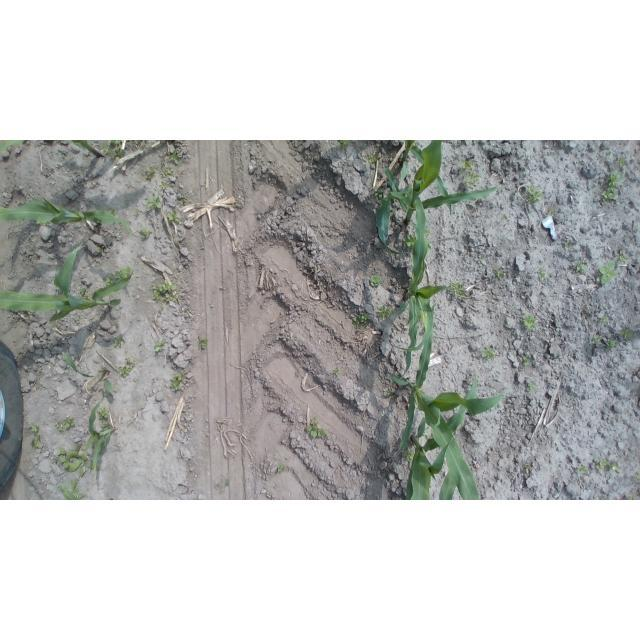Maize: (391, 304, 506, 501), (376, 140, 501, 257), (0, 243, 132, 323), (396, 191, 451, 382), (405, 376, 478, 500), (0, 195, 134, 237), (399, 140, 453, 216), (63, 351, 115, 398), (0, 140, 106, 158), (86, 404, 115, 469)
Weeds: (52, 443, 98, 476), (602, 171, 627, 203), (58, 477, 84, 500), (151, 279, 177, 302), (461, 158, 481, 187), (99, 140, 125, 162), (600, 260, 618, 285), (116, 355, 136, 377), (524, 184, 544, 205), (305, 420, 327, 439), (168, 371, 186, 393), (56, 415, 75, 434), (596, 458, 618, 474), (449, 280, 466, 298), (353, 312, 372, 328), (521, 312, 537, 331), (168, 148, 185, 165), (376, 304, 393, 320), (146, 195, 162, 211), (31, 425, 41, 450), (480, 345, 496, 360), (99, 407, 109, 430), (167, 209, 181, 225), (572, 259, 587, 273), (114, 268, 133, 279), (144, 165, 157, 181), (152, 340, 167, 353), (402, 448, 415, 463), (404, 235, 417, 250), (1, 313, 18, 324), (112, 336, 126, 349), (160, 164, 174, 177), (140, 228, 153, 241), (370, 276, 384, 288), (619, 328, 633, 340), (196, 337, 208, 350), (492, 268, 504, 280), (369, 152, 380, 165), (81, 288, 92, 301), (616, 251, 630, 261), (374, 188, 385, 200), (526, 380, 536, 393), (106, 276, 117, 287), (539, 268, 548, 281), (576, 464, 587, 474), (606, 338, 617, 348), (278, 462, 287, 474), (388, 388, 397, 400), (424, 428, 432, 441), (520, 356, 531, 365), (617, 156, 625, 168), (339, 140, 349, 149), (159, 182, 169, 191), (592, 334, 601, 344), (634, 471, 640, 485), (564, 242, 573, 251), (108, 208, 117, 217), (332, 367, 340, 377), (626, 494, 639, 500), (525, 463, 532, 473), (427, 241, 433, 252), (182, 196, 189, 205), (159, 304, 166, 313), (602, 316, 609, 323), (96, 247, 104, 253), (547, 207, 553, 214), (600, 496, 608, 501), (63, 352, 68, 360), (501, 216, 508, 221), (219, 286, 226, 291), (136, 209, 140, 216), (135, 140, 140, 145), (426, 227, 430, 233), (480, 256, 484, 260), (71, 368, 75, 372), (16, 202, 20, 205), (608, 152, 611, 156)
